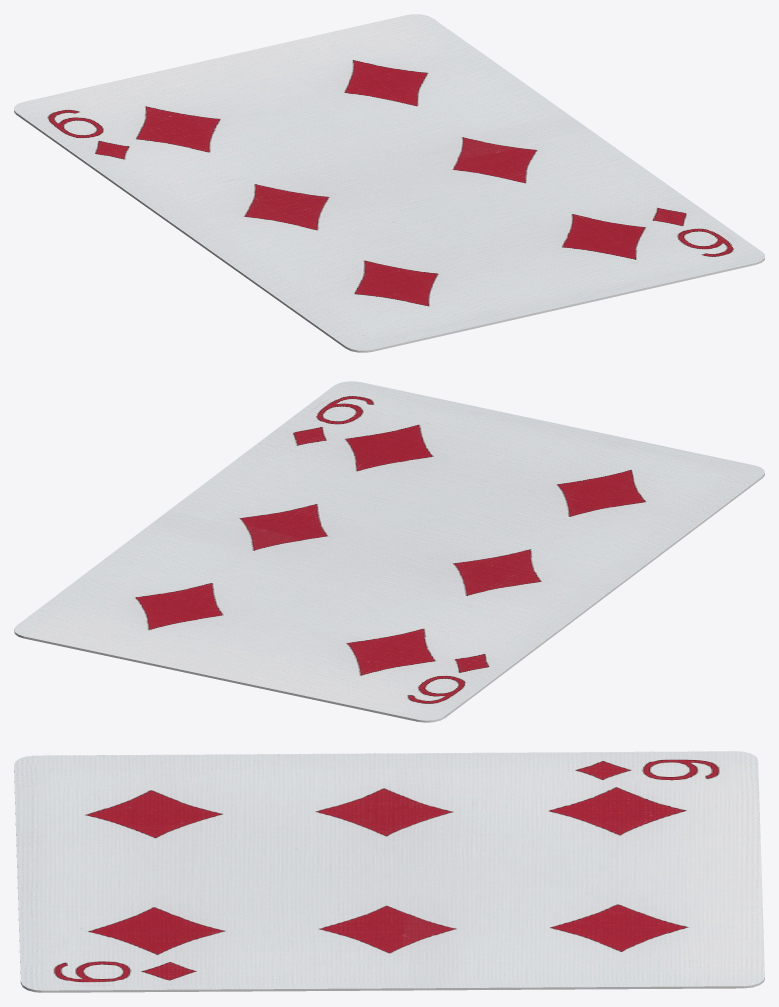
File: diamonds6.fbx
3 renders of one model, top to bottom at view 1: azimuth 30°, elevation 25°; view 2: azimuth 150°, elevation 25°; view 3: azimuth 270°, elevation 25°, orthographic. The views are drawn at different scales.
Parts seen in each view (by area): view 1: Diamonds_6_5; view 2: Diamonds_6_5; view 3: Diamonds_6_5.
Boxes of the visible parts, x1,y1,x2,y2 form: Diamonds_6_5: (14, 14, 764, 352); Diamonds_6_5: (14, 381, 764, 722); Diamonds_6_5: (14, 751, 764, 992).
Bounding box in the file's own units: 6.37 × 0.1803 × 8.88.
